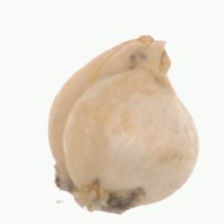L1: (54, 178, 131, 216), (138, 32, 176, 83)
L2: (49, 35, 199, 215)
